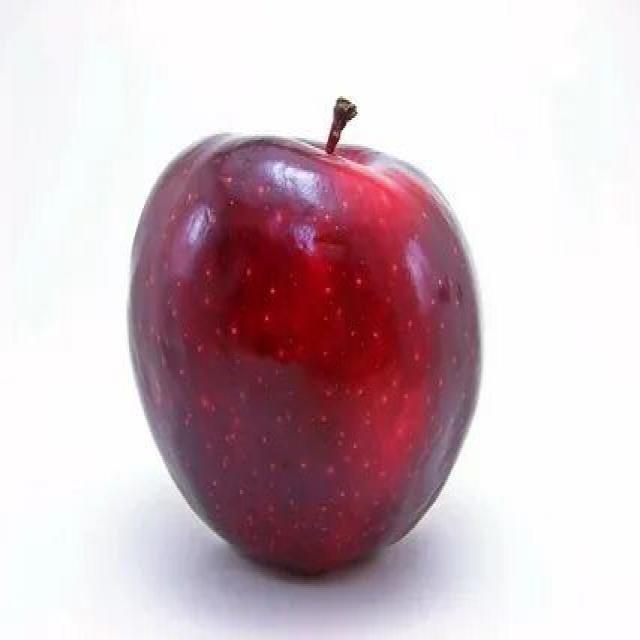Rotten: (148, 127, 505, 608)
